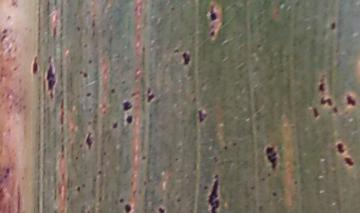tarspot: (43, 60, 59, 99), (207, 172, 222, 213), (264, 143, 283, 173), (195, 106, 211, 125), (82, 130, 96, 151), (343, 90, 357, 111), (207, 4, 219, 24), (120, 97, 134, 114), (334, 138, 346, 157), (180, 48, 191, 68), (30, 56, 40, 75), (318, 95, 335, 106), (310, 105, 321, 121), (123, 113, 135, 127), (316, 80, 327, 95), (344, 156, 355, 170), (122, 200, 133, 213), (328, 19, 337, 34), (146, 91, 156, 104), (111, 120, 121, 132), (270, 189, 280, 200), (80, 70, 90, 80), (108, 85, 118, 95), (157, 202, 166, 213), (84, 90, 94, 99)
